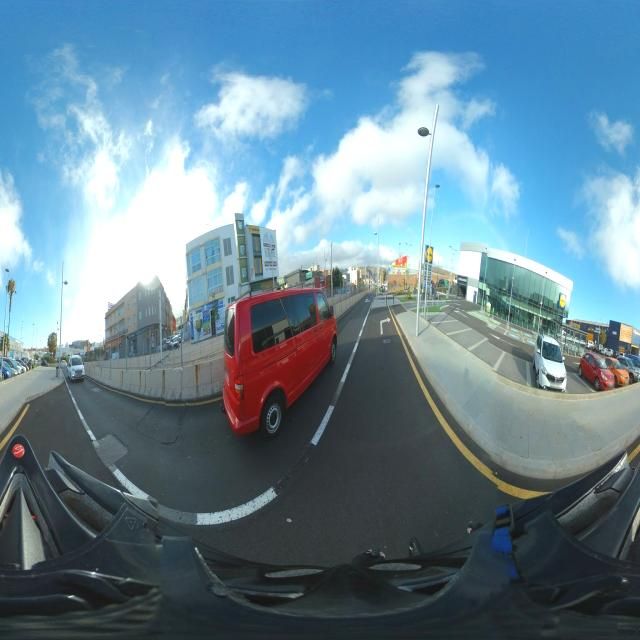car: (220, 284, 338, 444), (532, 337, 568, 393), (579, 352, 613, 390), (604, 356, 629, 386), (66, 355, 85, 384), (620, 356, 640, 383), (0, 358, 11, 380)
